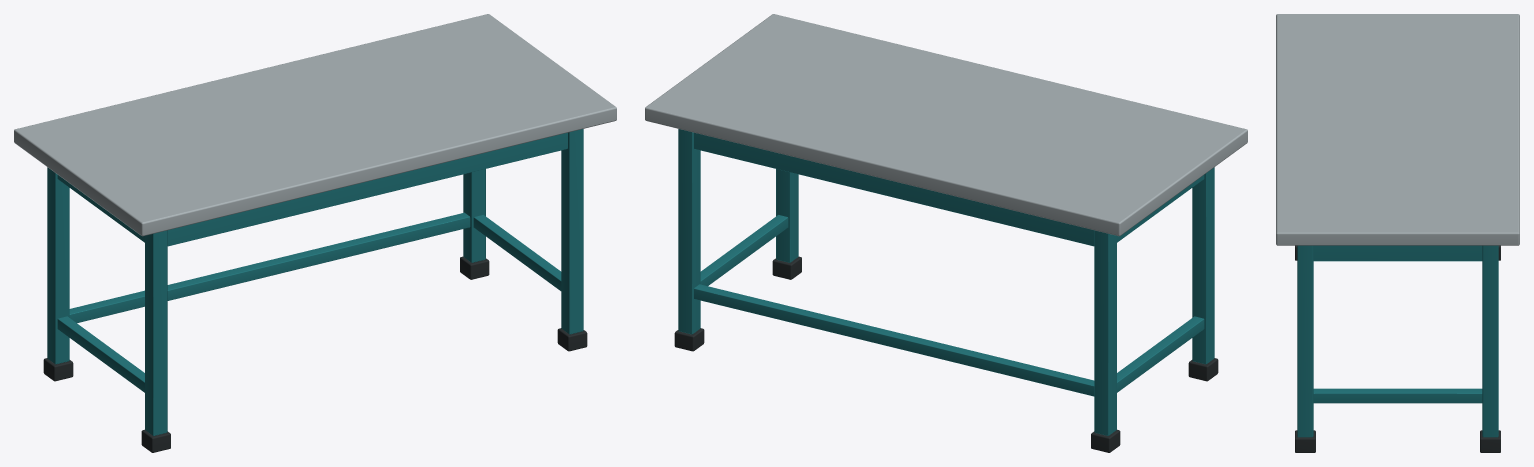
Rendered from VLAB_lab_bench.fbx.
The picture shows the model from 3 angles, left to right: view 1: azimuth 30°, elevation 25°; view 2: azimuth 150°, elevation 25°; view 3: azimuth 270°, elevation 25°; orthographic projection. The views are drawn at different scales.
Visible parts, largest first — view 1: VLAB_lab_bench_Top_VIS, VLAB_lab_bench_Frame_VIS, VLAB_lab_bench_Feet_VIS; view 2: VLAB_lab_bench_Top_VIS, VLAB_lab_bench_Frame_VIS, VLAB_lab_bench_Feet_VIS; view 3: VLAB_lab_bench_Top_VIS, VLAB_lab_bench_Frame_VIS, VLAB_lab_bench_Feet_VIS.
Part boxes in pixels (x1,y1,x2,y2): VLAB_lab_bench_Top_VIS: [14, 14, 616, 236]; VLAB_lab_bench_Frame_VIS: [47, 129, 583, 435]; VLAB_lab_bench_Feet_VIS: [43, 256, 587, 452]; VLAB_lab_bench_Top_VIS: [645, 14, 1247, 236]; VLAB_lab_bench_Frame_VIS: [678, 129, 1214, 435]; VLAB_lab_bench_Feet_VIS: [674, 256, 1218, 452]; VLAB_lab_bench_Top_VIS: [1276, 14, 1519, 245]; VLAB_lab_bench_Frame_VIS: [1297, 245, 1498, 437]; VLAB_lab_bench_Feet_VIS: [1295, 245, 1500, 452].
Size of the model in its own units: 1.6 by 0.78 by 0.75.
